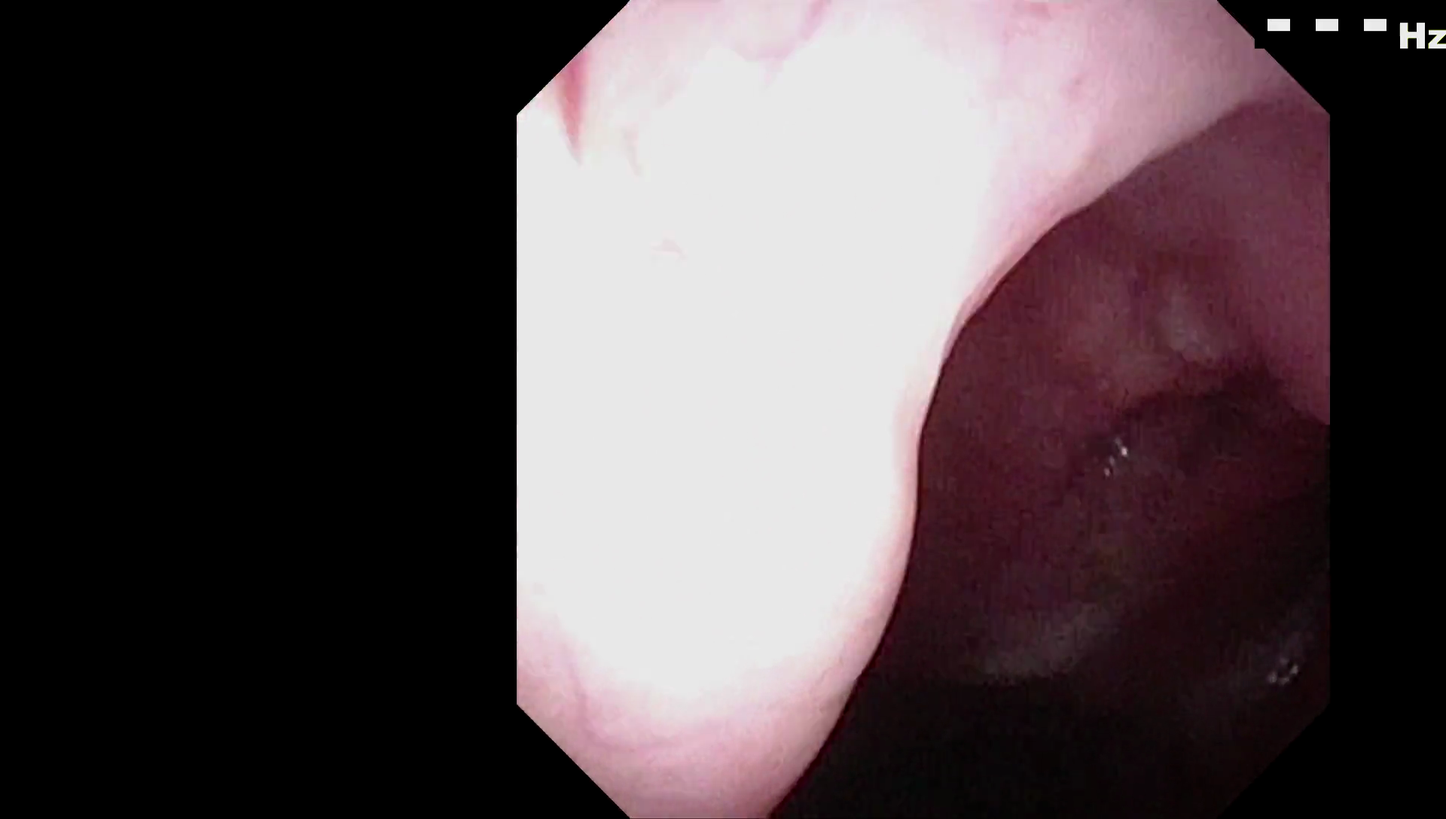close_wall: (521, 0, 1194, 794)
next: (734, 522, 1272, 819)
